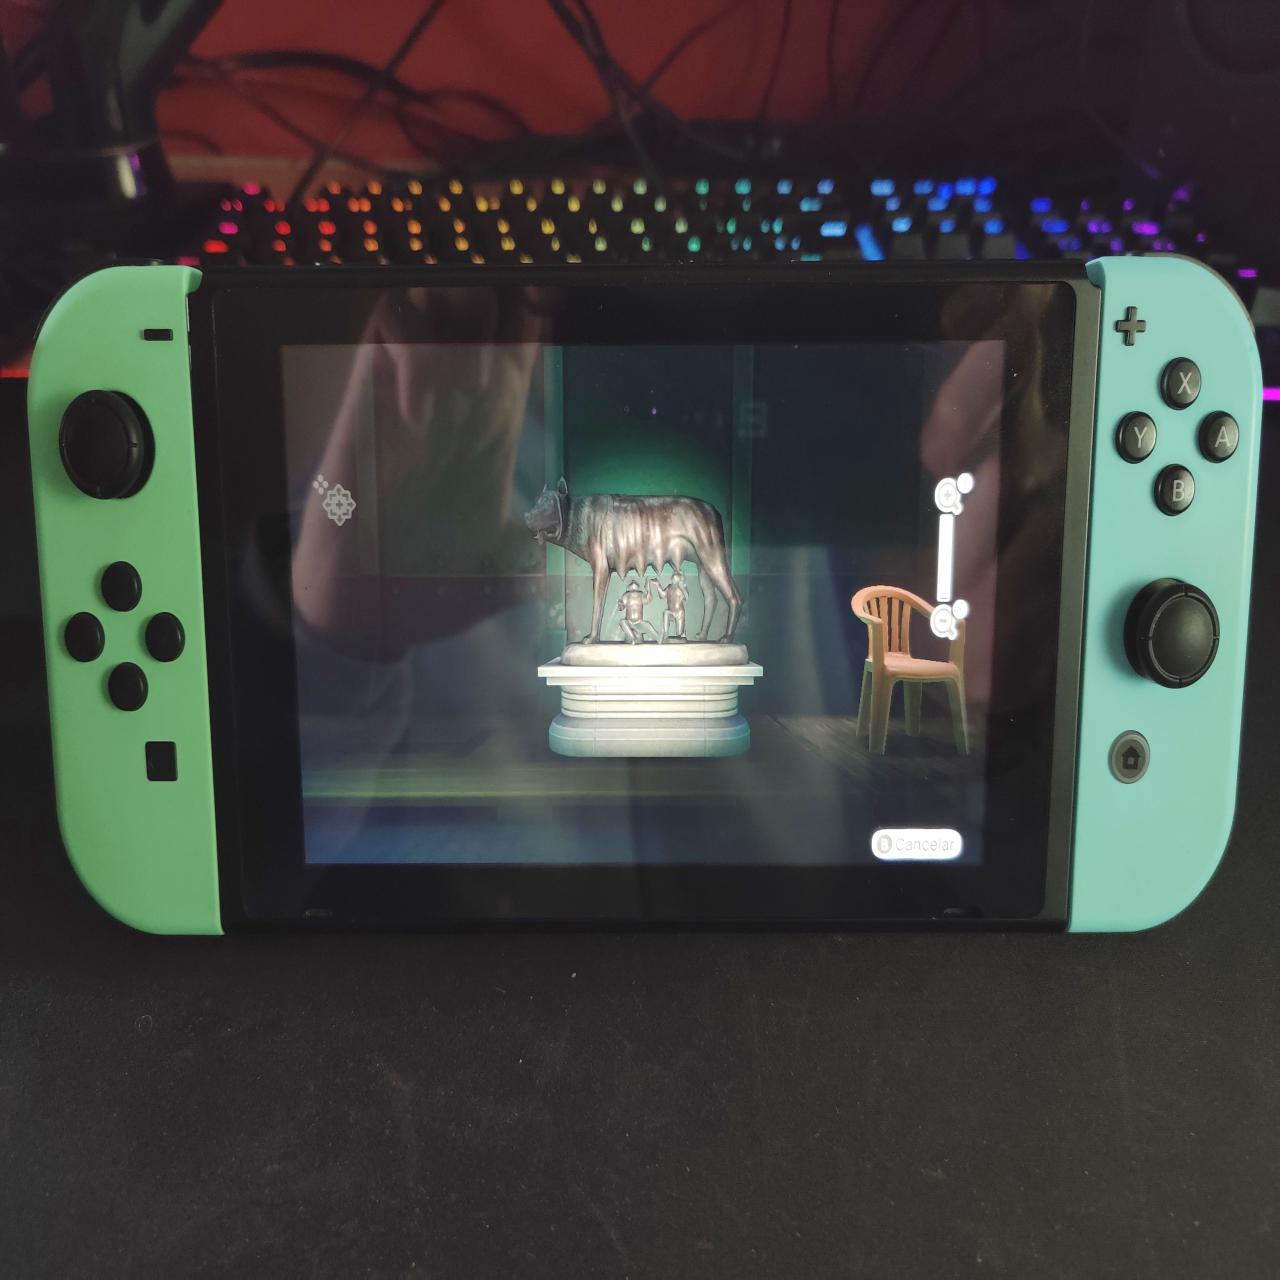CapitoliniFake: (524, 470, 768, 668)
